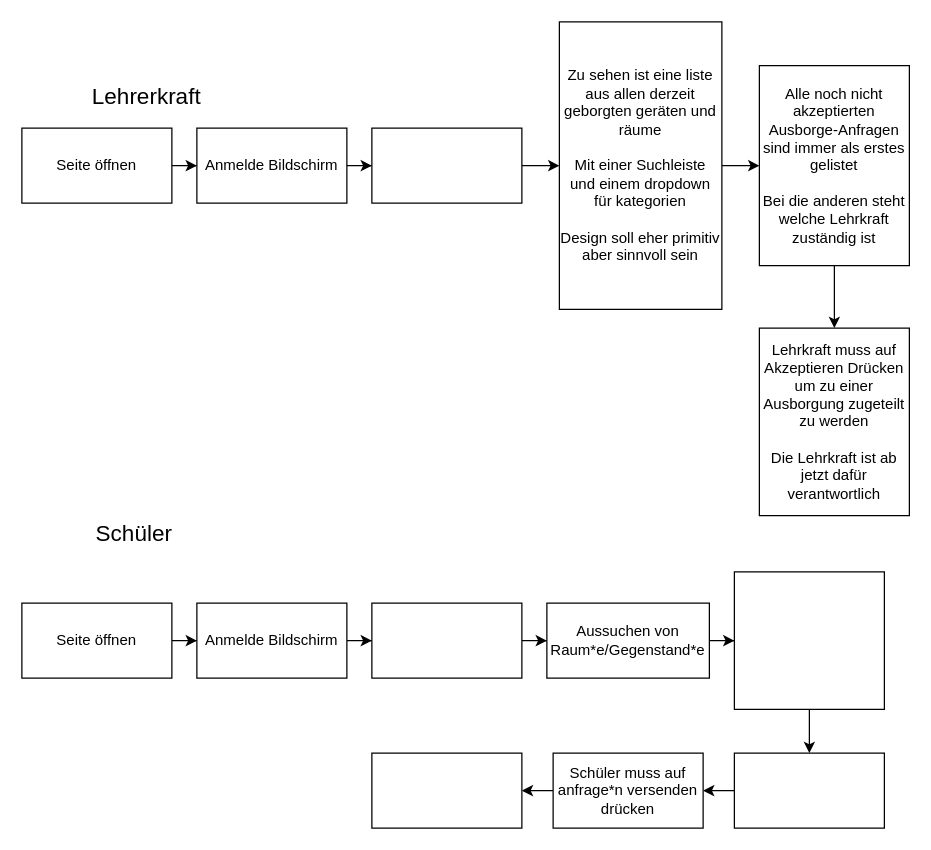
Some shapes in this 931 by 850 pixel diagram are drawn without their labels. The shapes that lost their labels are listed below. From the top down, each one's centre as x and y in pixels, then its label:
[446,165]: Automatische Weiterleitung zur "Admin Page"
[446,640]: Hauptseite
[808,640]: Raum/Gegenstand wird in den Warenkorb gespeichert (auch auf Server)
[446,790]: andere Ansicht kann geöffnet werden mit derzeit ausgeborgte Items des Users
[808,790]: Bei drück auf Warenkorb Icon wird Warenkorb Dialog geöffnet
